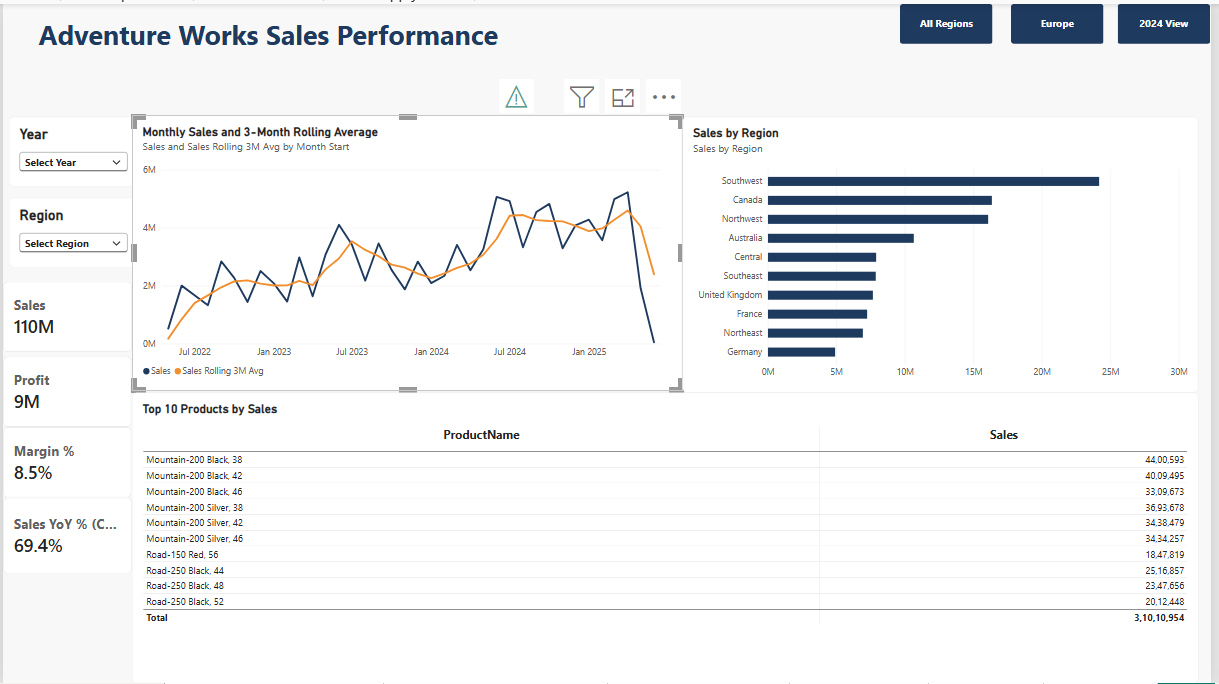

The page's visual inventory and layout, read from the dashboard file:
{"tool":"powerbi","page":{"name":"Executive Overview","canvas":[1920,1080],"ordinal":0},"visuals":[{"type":"textbox","box":[9.5,0,1911.1,126.5],"z":0},{"type":"listSlicer","fields":{"Values":["dim_Date.Year"]},"box":[9.5,178.9,205.2,112.1],"z":1000},{"type":"listSlicer","fields":{"Values":["dim_Territory.Region"]},"box":[9.5,307.8,205,112],"z":2000},{"type":"cardVisual","fields":{"Data":["_Measures (2).Sales"]},"box":[0,441.4,205.2,112],"z":3000},{"type":"cardVisual","fields":{"Data":["_Measures (2).Profit"]},"box":[0,560.7,204.9,112],"z":4000},{"type":"cardVisual","fields":{"Data":["_Measures (2).Margin %"]},"box":[0,672.8,204.9,112],"z":5000},{"type":"cardVisual","fields":{"Data":["_Measures (2).Sales YoY % (Comparable)"]},"box":[0,785,205.2,121.7],"z":6000},{"type":"lineChart","title":"Monthly Sales and 3-Month Rolling Average","fields":{"Category":["dim_Date.Month Start"],"Y":["_Measures (2).Sales","_Measures (2).Sales Rolling 3M Avg"]},"box":[205.2,176.6,875.6,439],"z":7000},{"type":"clusteredBarChart","title":"Sales by Region","fields":{"Category":["dim_Territory.Region"],"Y":["_Measures (2).Sales"]},"box":[1080.8,178.9,820.8,439],"z":8000},{"type":"tableEx","title":"Top 10 Products by Sales","fields":{"Values":["dim_Product.ProductName","_Measures (2).Sales"]},"box":[205.2,618,1696.4,462.9],"z":9000},{"type":"actionButton","box":[1426.8,0,147.3,63.6],"z":10000},{"type":"actionButton","box":[1603.3,0,147.3,63.6],"z":11000},{"type":"actionButton","box":[1772.7,0,147.3,63.6],"z":12000}]}

Visuals, with their boxes in screenshot pixels (x1, y1, x2, y2), scaled from the page's 1920x1080 canvas onto the 1219x684 screenshot:
textbox: x1=6 y1=0 x2=1218 y2=80
listSlicer - dim_Date.Year: x1=6 y1=113 x2=136 y2=184
listSlicer - dim_Territory.Region: x1=6 y1=195 x2=136 y2=266
cardVisual - _Measures (2).Sales: x1=0 y1=280 x2=130 y2=350
cardVisual - _Measures (2).Profit: x1=0 y1=355 x2=130 y2=426
cardVisual - _Measures (2).Margin %: x1=0 y1=426 x2=130 y2=497
cardVisual - _Measures (2).Sales YoY % (Comparable): x1=0 y1=497 x2=130 y2=574
"Monthly Sales and 3-Month Rolling Average" lineChart: x1=130 y1=112 x2=686 y2=390
"Sales by Region" clusteredBarChart: x1=686 y1=113 x2=1207 y2=391
"Top 10 Products by Sales" tableEx: x1=130 y1=391 x2=1207 y2=683
actionButton: x1=906 y1=0 x2=999 y2=40
actionButton: x1=1018 y1=0 x2=1111 y2=40
actionButton: x1=1125 y1=0 x2=1218 y2=40
